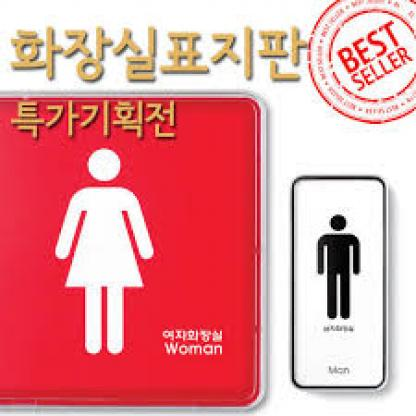toilet: (53, 148, 156, 356)
